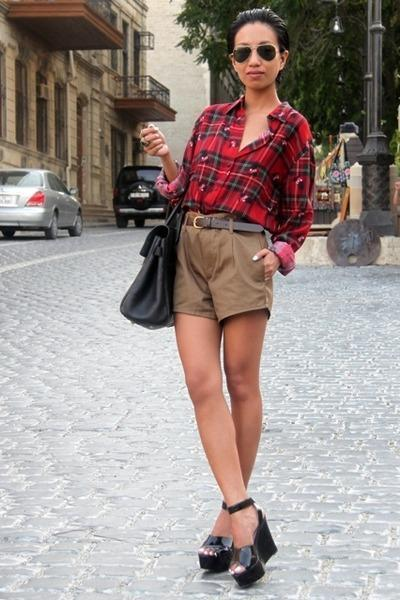bag: (120, 218, 181, 329)
shirt: (163, 88, 328, 275)
shoe: (199, 498, 275, 574)
shorts: (174, 228, 277, 322)
sunglass: (224, 33, 286, 74)
